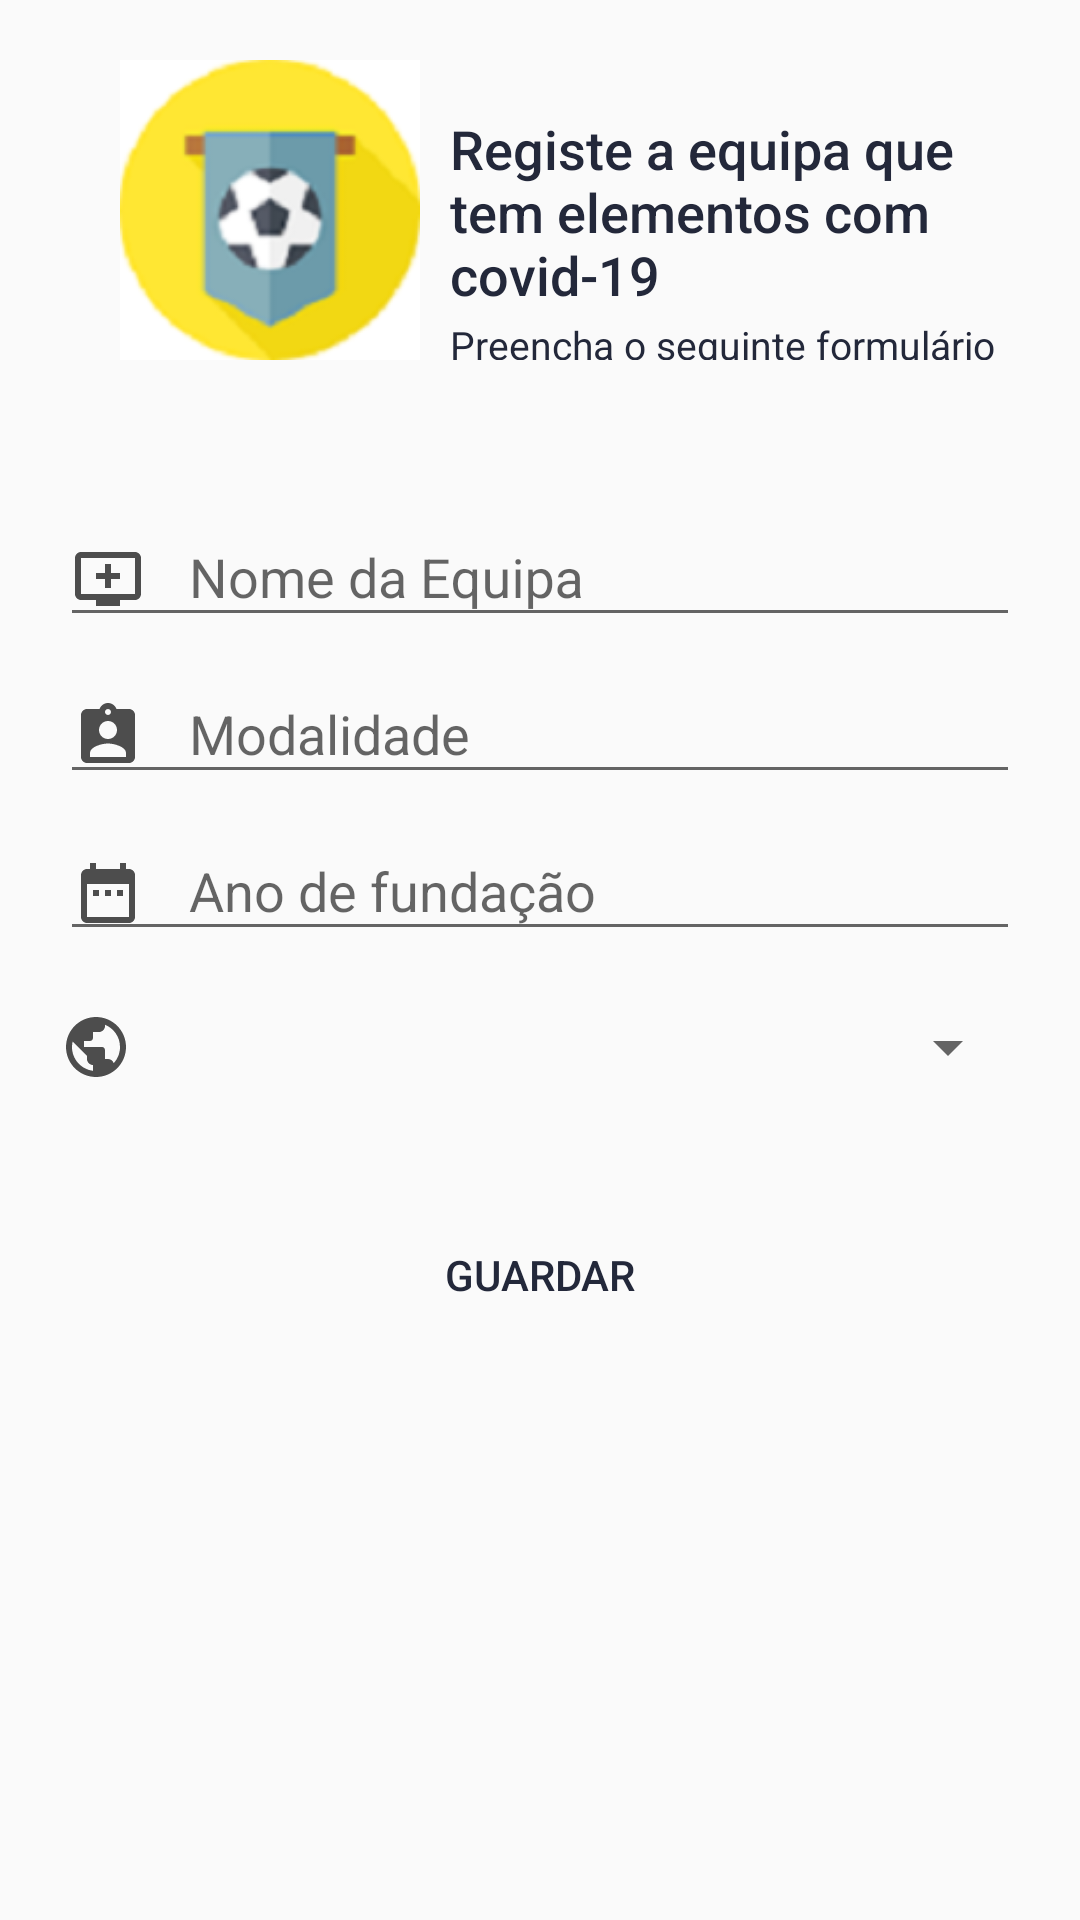

Named icons in this screenshot (1080 × 1920) and their bounding boxes, (left=x1, top=y1, right=x2, bottom=y2):
pequipa: (left=120, top=60, right=420, bottom=360)
public: (left=66, top=1017, right=126, bottom=1077)
